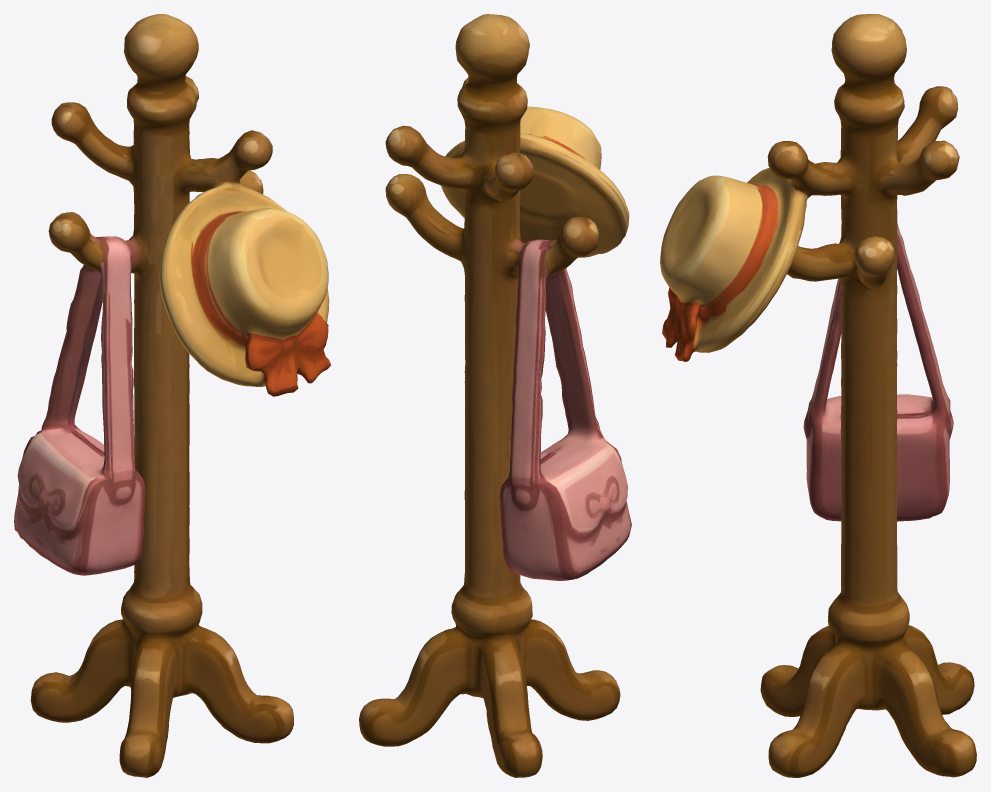
The model's file is Wood_coat_rack.glb.
3 views of the same model, side by side, from view 1: azimuth 30°, elevation 25°; view 2: azimuth 150°, elevation 25°; view 3: azimuth 270°, elevation 25° (orthographic).
Visible parts, largest first — view 1: RETOPO; view 2: RETOPO; view 3: RETOPO.
Part boxes in pixels (x1,y1,x2,y2): RETOPO: (14,14,330,777); RETOPO: (359,14,631,777); RETOPO: (660,14,976,777).
Bounding box in the file's own units: 0.3596 × 1.1 × 0.4385.
Materials: 1 (1 with a texture image).
